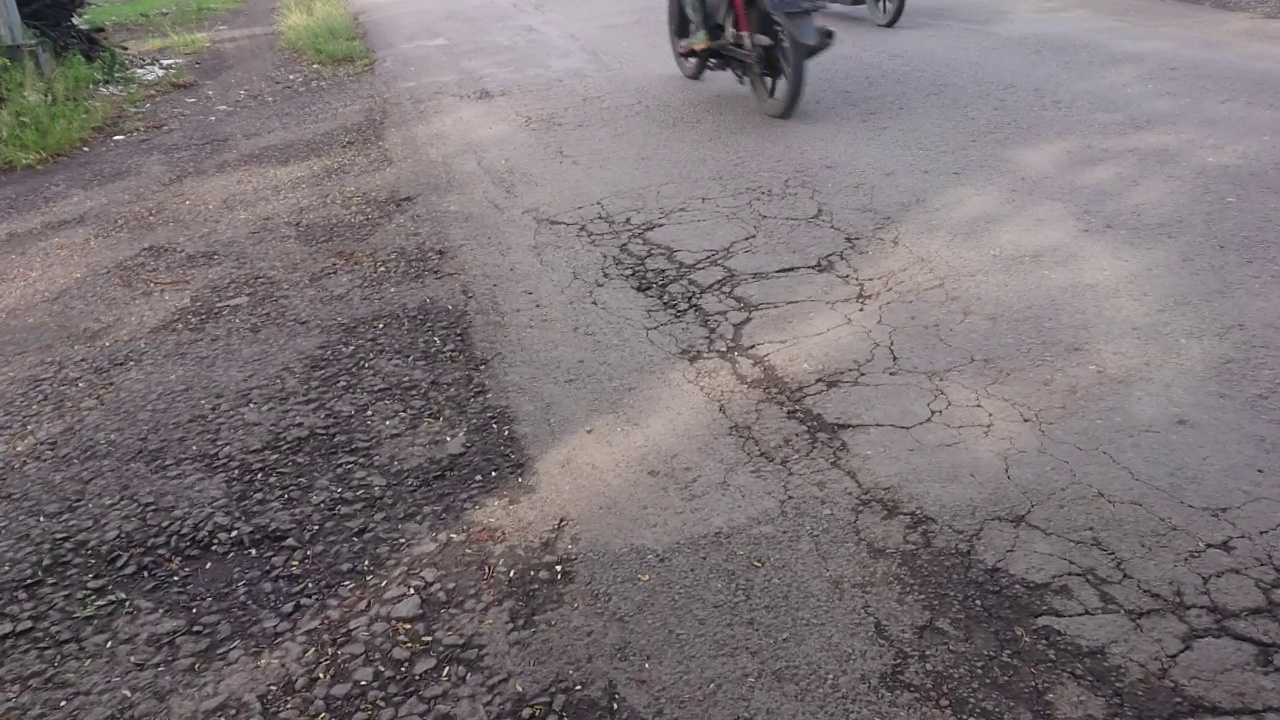Retak: (857, 496, 1280, 712), (609, 223, 903, 494)
